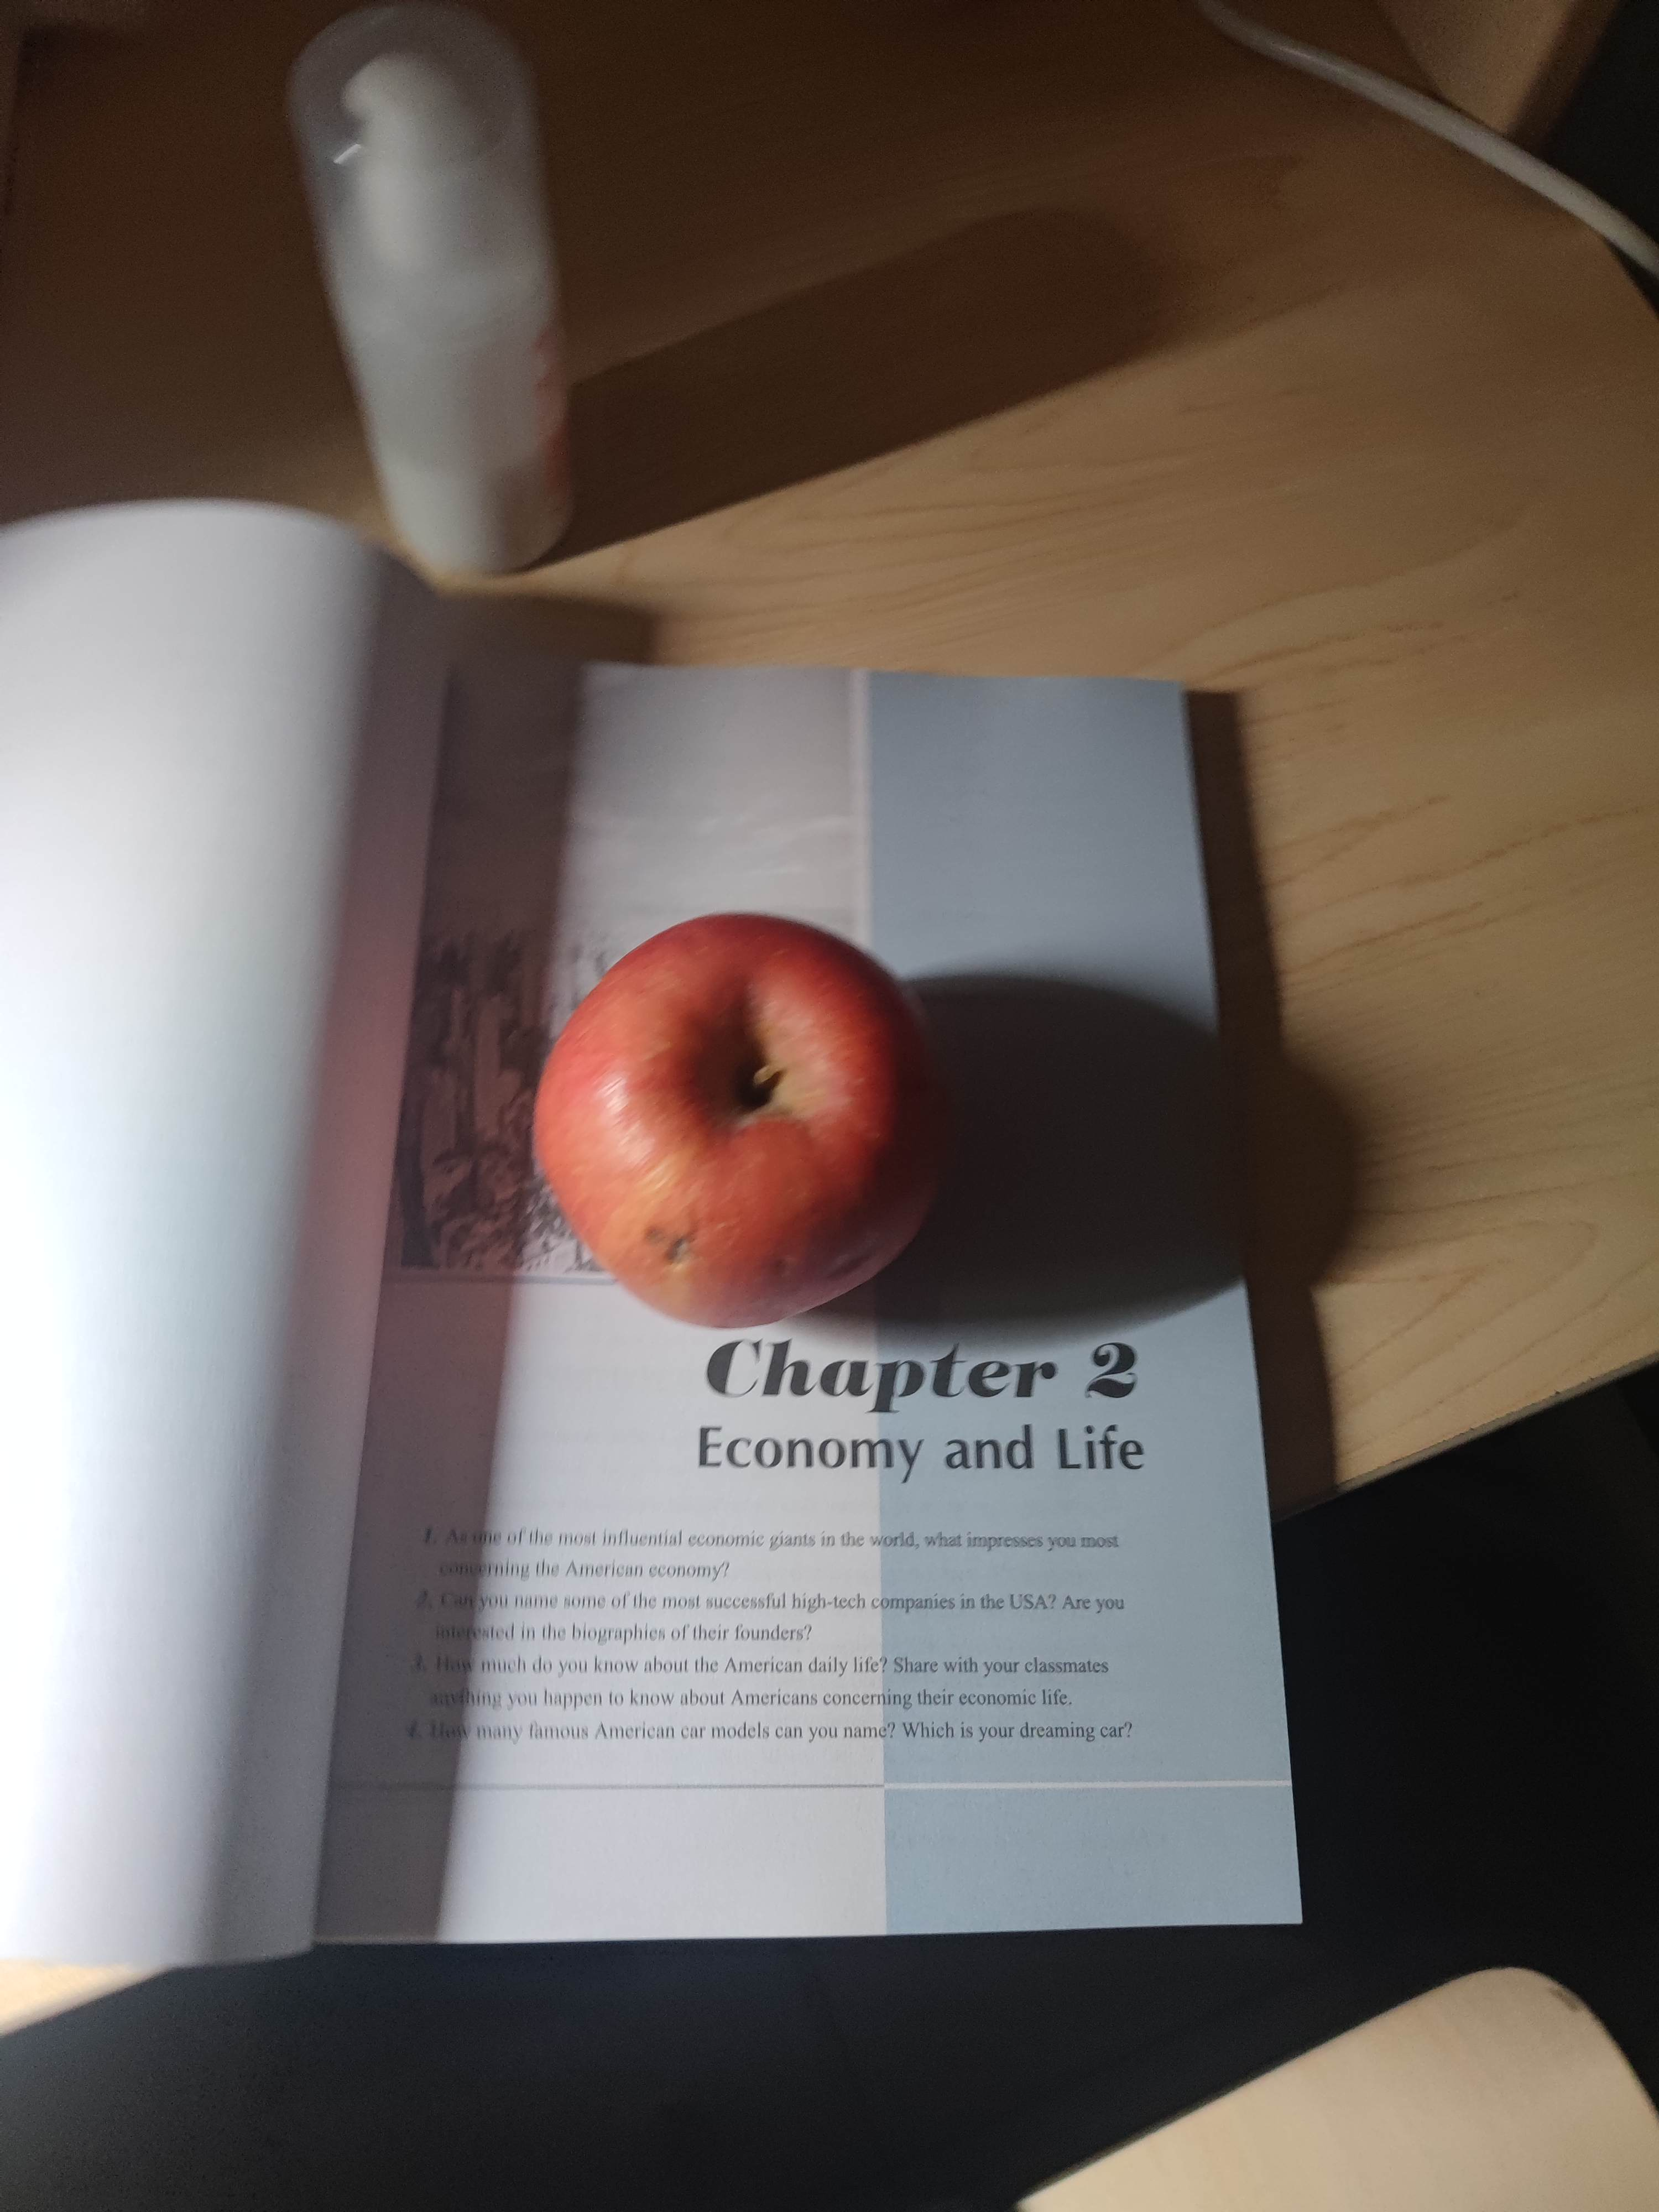apple: (530, 902, 946, 1329)
